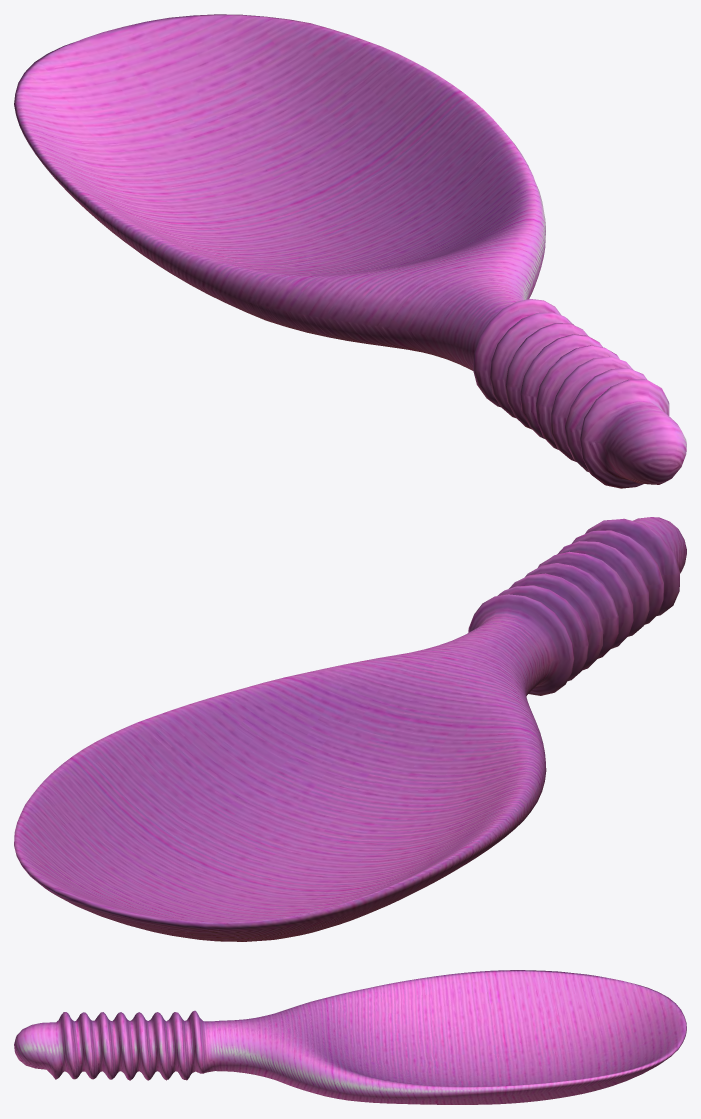
The model's file is 30_Screw.glb.
3 views of the same model, one above another, from view 1: azimuth 30°, elevation 25°; view 2: azimuth 150°, elevation 25°; view 3: azimuth 270°, elevation 25° (orthographic). The views are drawn at different scales.
Parts seen in each view (by area): view 1: 30_Screw; view 2: 30_Screw; view 3: 30_Screw.
Boxes of the visible parts, x1,y1,x2,y2 form: 30_Screw: (14, 14, 686, 488); 30_Screw: (14, 517, 686, 941); 30_Screw: (14, 970, 686, 1104).
Size of the model in its own units: 0.0422 by 0.0117 by 0.1021.
1 material, 1 textured.
